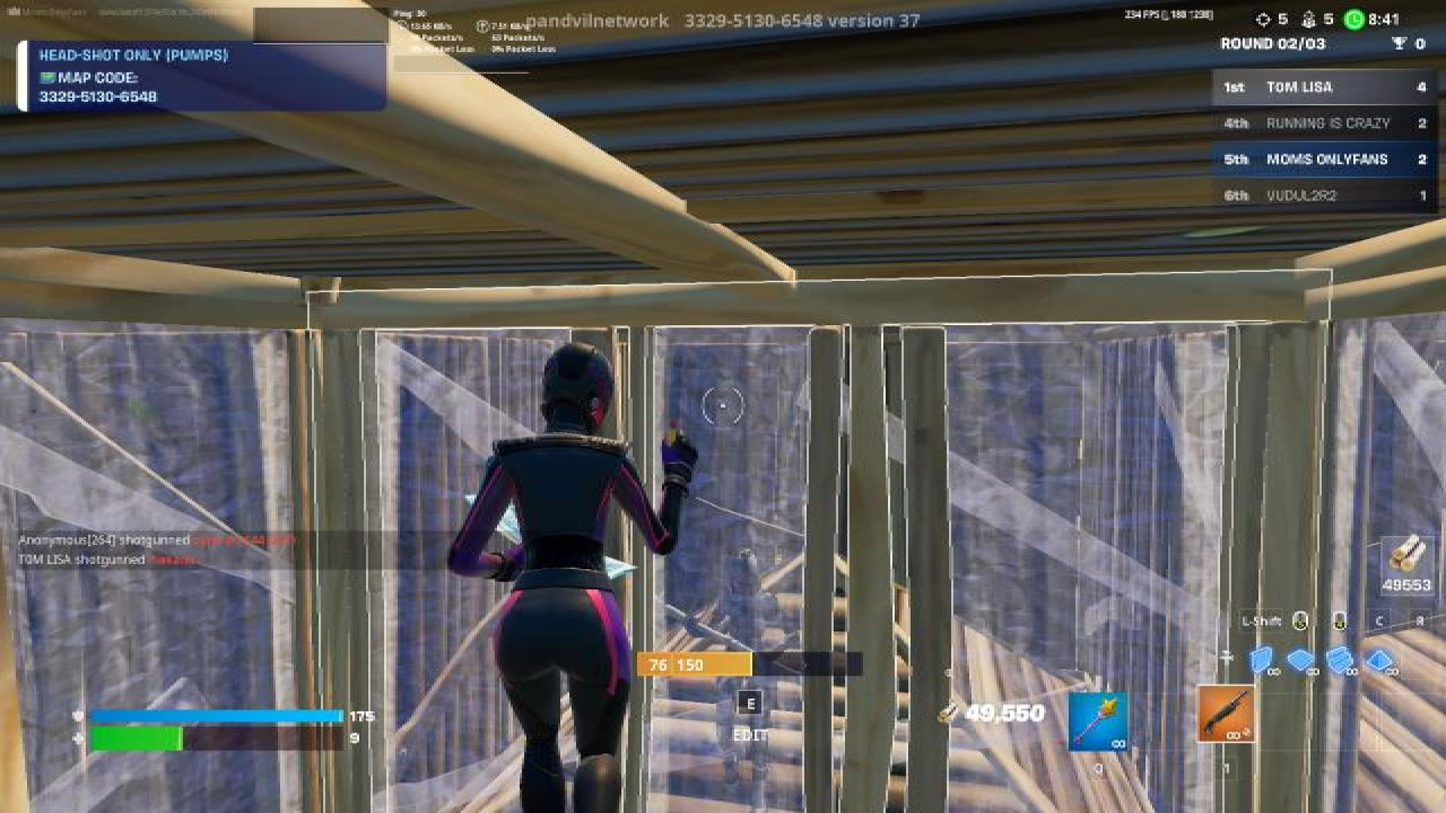player: (683, 544, 801, 802)
